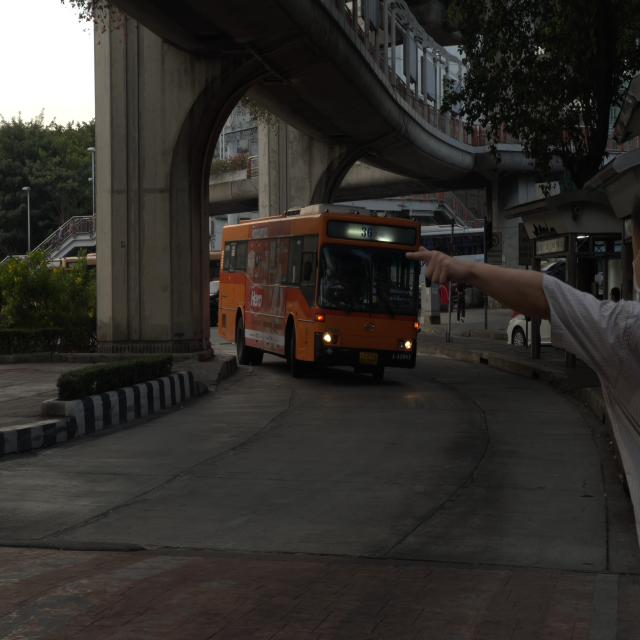BMTA-bus: (218, 207, 424, 381)
Bus-Line-Number: (360, 224, 386, 241)
Destination-Sign-Normal: (388, 286, 410, 306)
